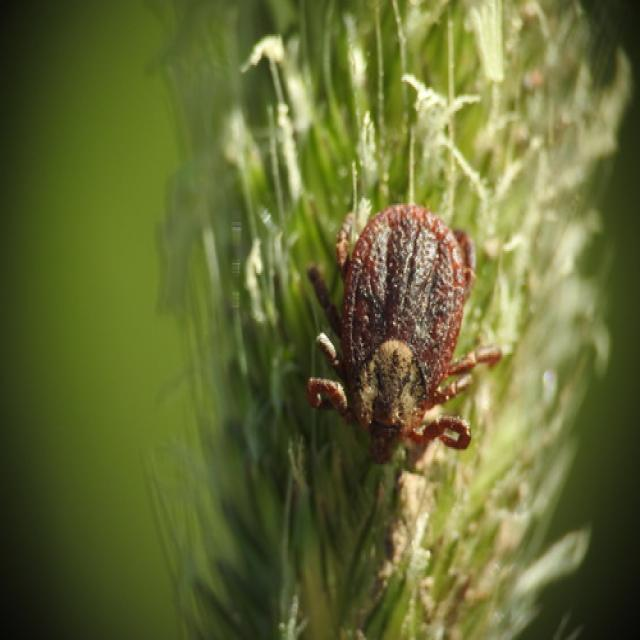Dermacentor Reticulatus-F: (307, 205, 502, 466)
